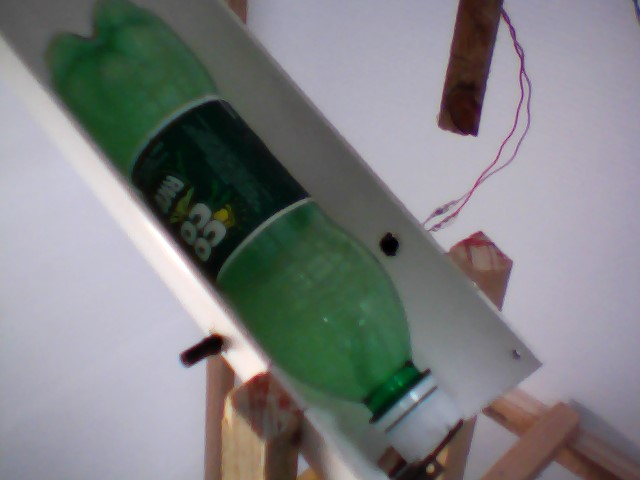plastico: (39, 3, 471, 462)
